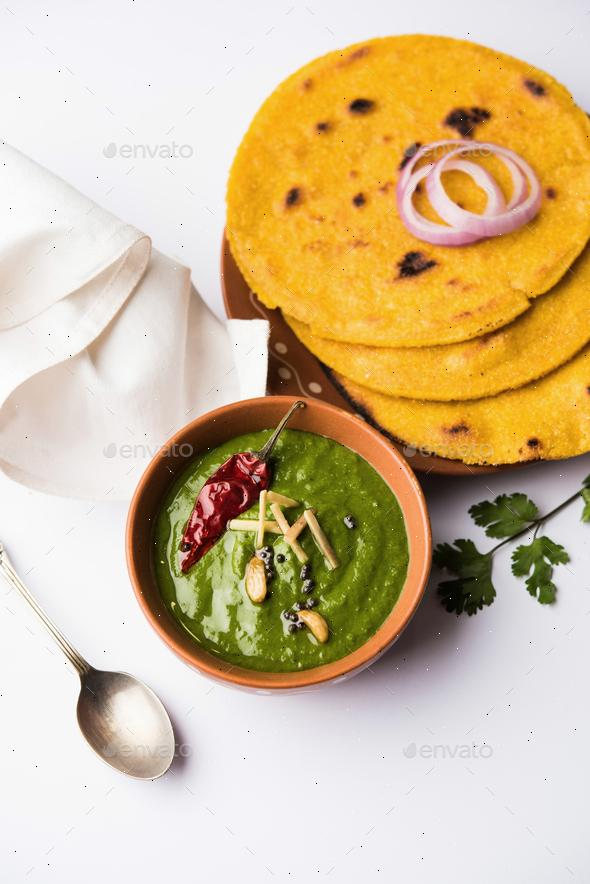saag: (157, 424, 406, 671)
